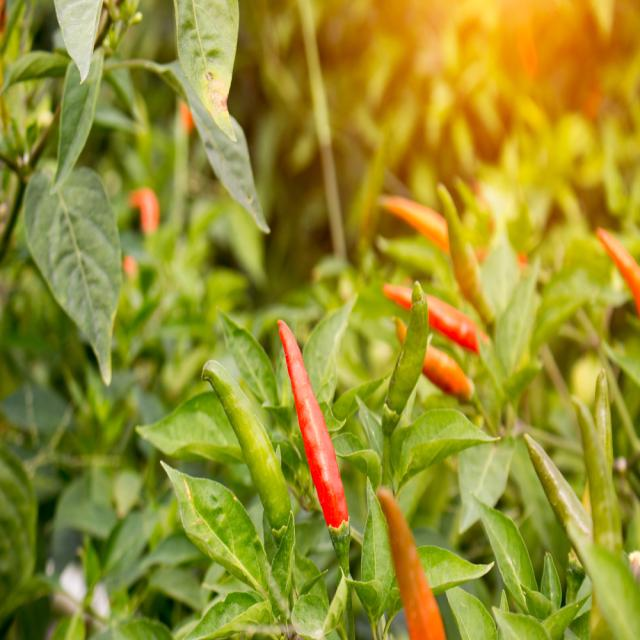Half-Ripe: (376, 487, 446, 638)
Ripe: (278, 320, 349, 530), (426, 295, 478, 353), (422, 344, 474, 401), (384, 284, 412, 309)
Unripe: (202, 362, 291, 533), (438, 184, 495, 326), (572, 395, 621, 551), (524, 435, 592, 543), (386, 281, 428, 415), (594, 369, 612, 468)
